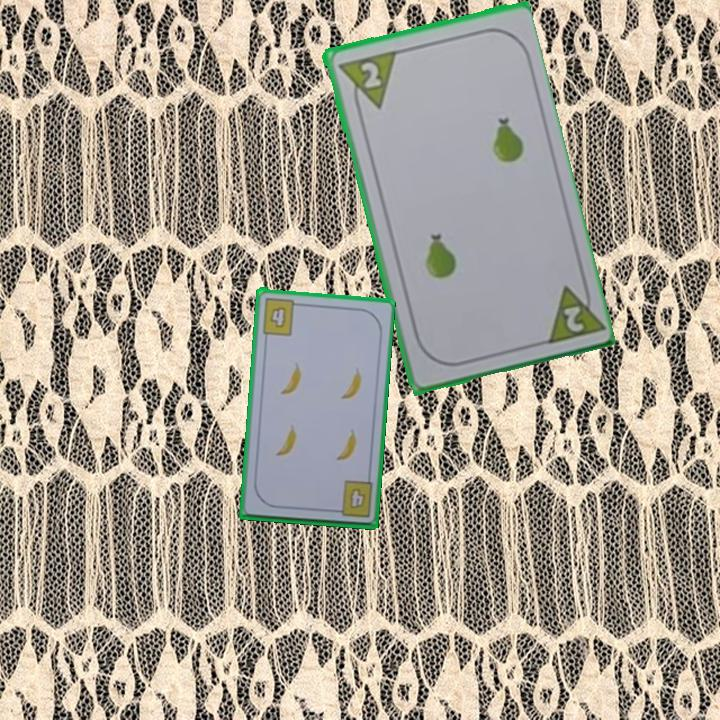2p: (539, 275, 604, 348), (333, 46, 398, 116)
4b: (259, 294, 304, 338), (346, 484, 368, 511)
